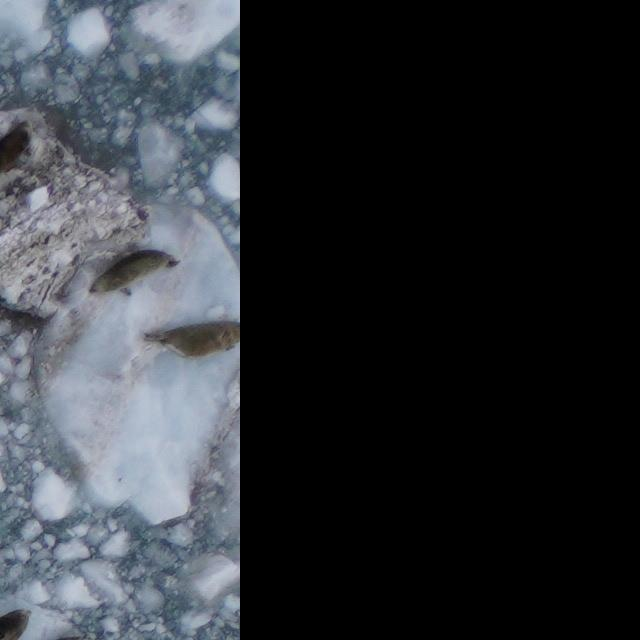seal: (86, 247, 185, 299), (139, 318, 240, 361), (0, 116, 38, 180)
